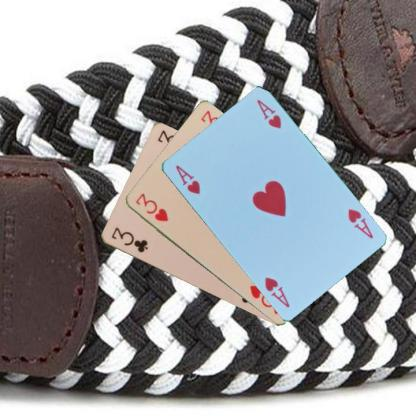3c: (108, 225, 149, 254)
3h: (132, 190, 170, 223)
Ah: (344, 206, 374, 240), (172, 162, 201, 196)
